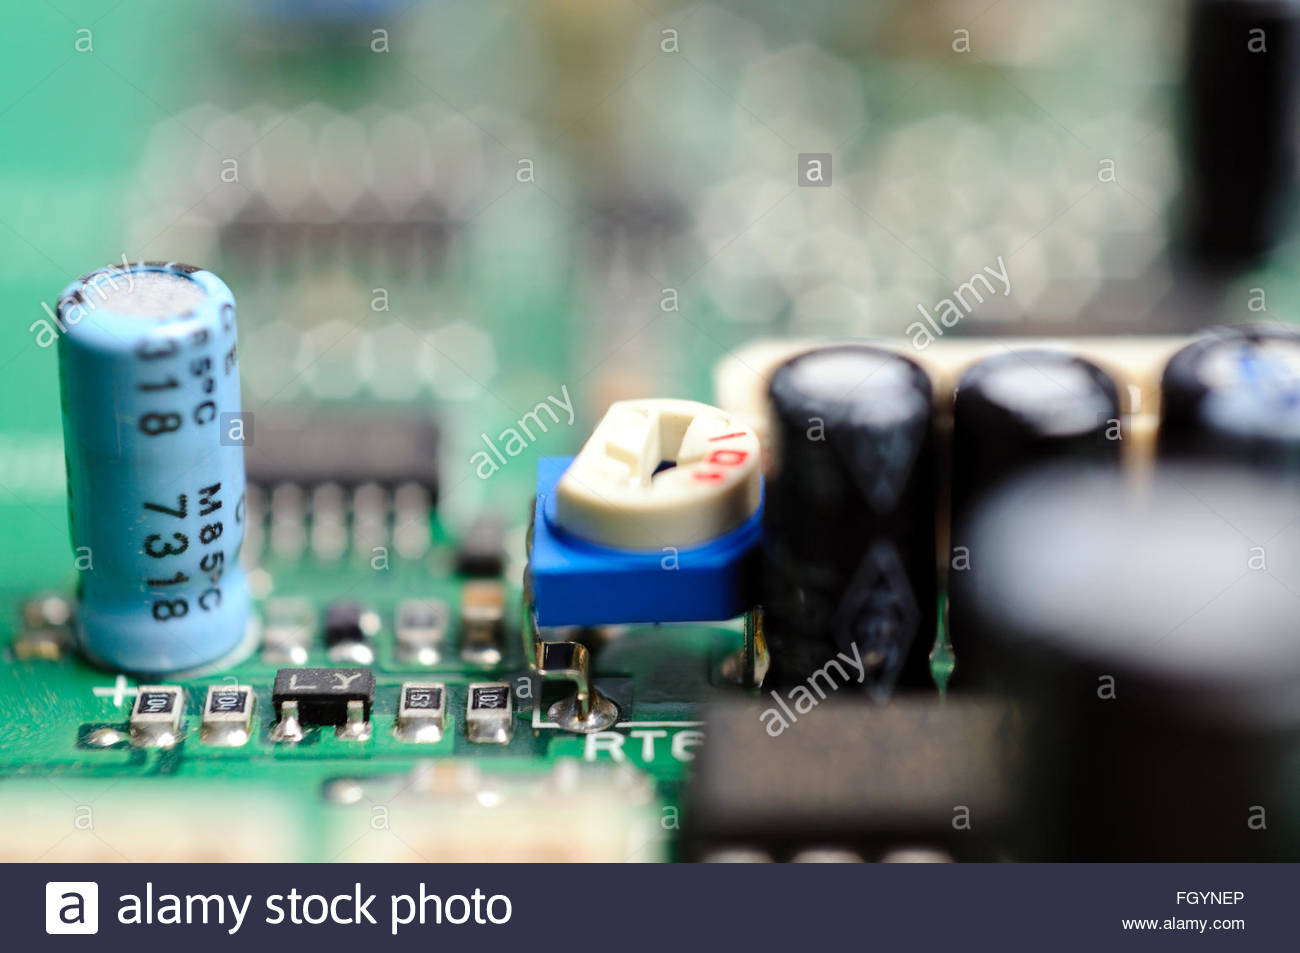capacitor: (38, 243, 281, 682), (745, 325, 950, 698)
